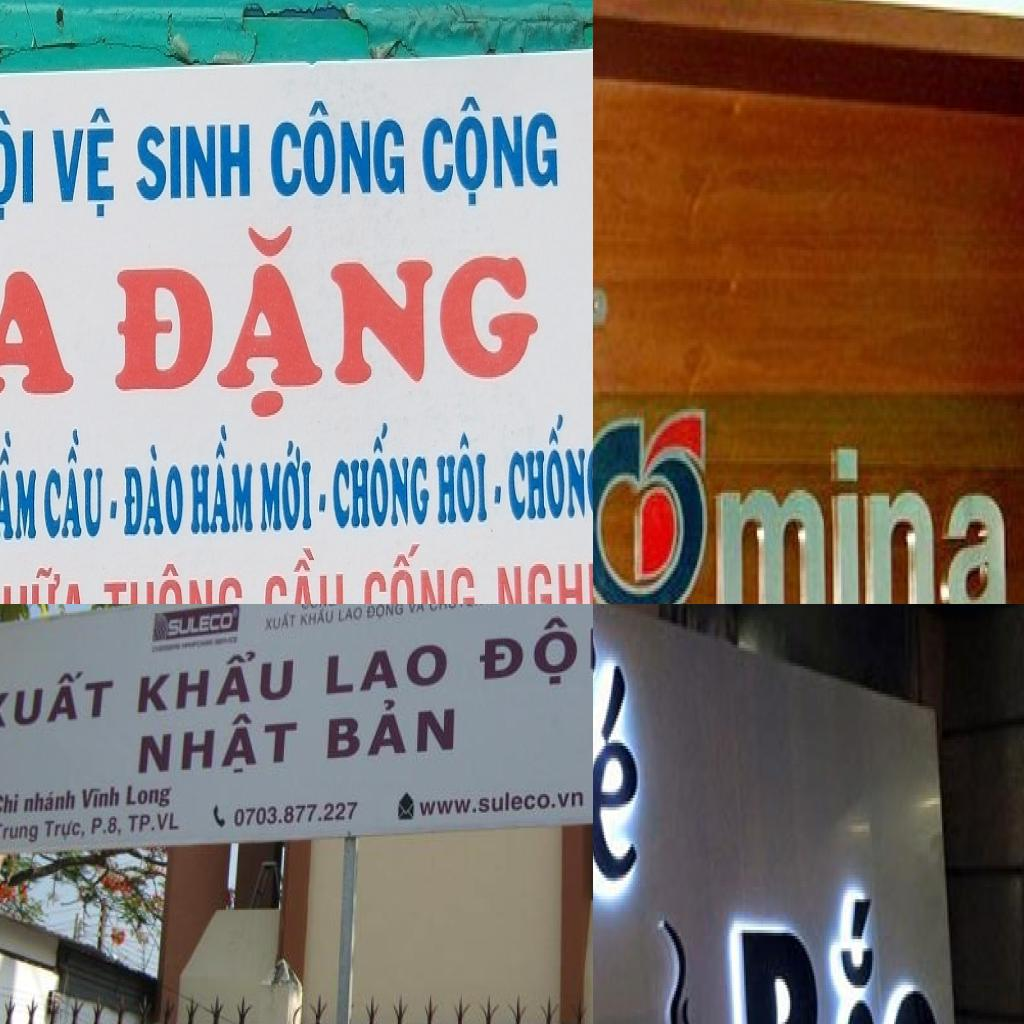text: (100, 214, 546, 423), (593, 400, 1021, 604), (728, 896, 952, 1024), (418, 85, 564, 214), (265, 91, 408, 206), (0, 254, 86, 403), (131, 111, 256, 212), (330, 419, 432, 542), (136, 708, 300, 778), (137, 644, 294, 714), (480, 604, 593, 695), (505, 412, 593, 528), (41, 423, 122, 546), (45, 99, 121, 224), (186, 421, 257, 542), (326, 695, 457, 760), (359, 538, 480, 604), (433, 425, 505, 534), (0, 665, 117, 732), (255, 437, 330, 540), (98, 554, 249, 604), (325, 640, 450, 697), (121, 441, 186, 546), (420, 784, 584, 820), (488, 550, 593, 604), (260, 544, 352, 604), (0, 424, 40, 548), (0, 104, 39, 230), (0, 560, 92, 604), (233, 800, 359, 830), (168, 612, 236, 640), (23, 787, 78, 814), (126, 811, 183, 835), (126, 782, 172, 811), (80, 784, 122, 809), (44, 818, 86, 843), (0, 821, 40, 846), (265, 610, 298, 634), (88, 814, 123, 836), (300, 610, 336, 628), (366, 604, 407, 619), (430, 604, 485, 615), (0, 790, 22, 816), (338, 606, 364, 623), (300, 604, 337, 611), (408, 604, 427, 615)
